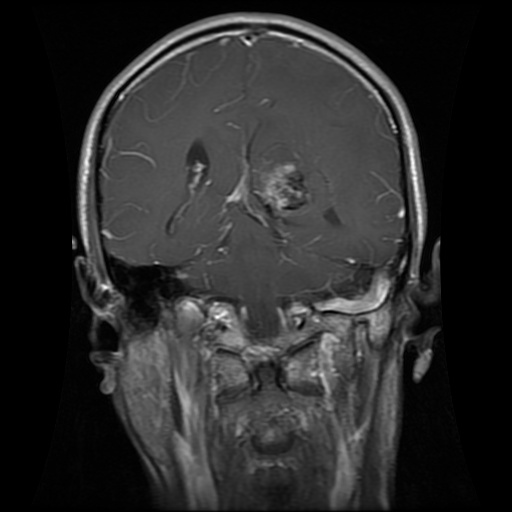glioma: (229, 143, 323, 240)
